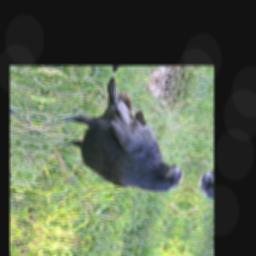Crow: (40, 70, 205, 197)
